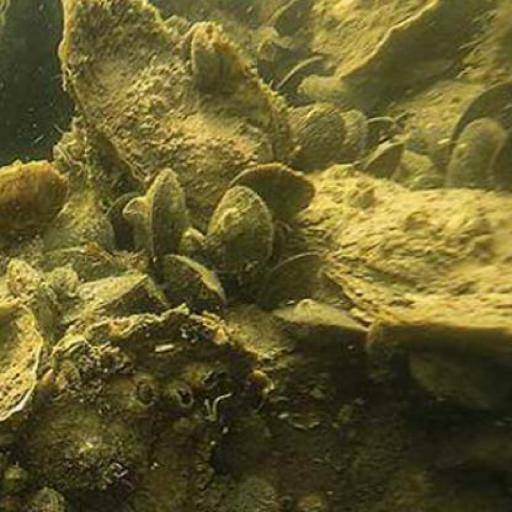Oyster-Closed: (306, 177, 512, 323), (211, 193, 278, 277), (446, 119, 507, 189), (233, 173, 312, 226), (297, 108, 343, 171)
